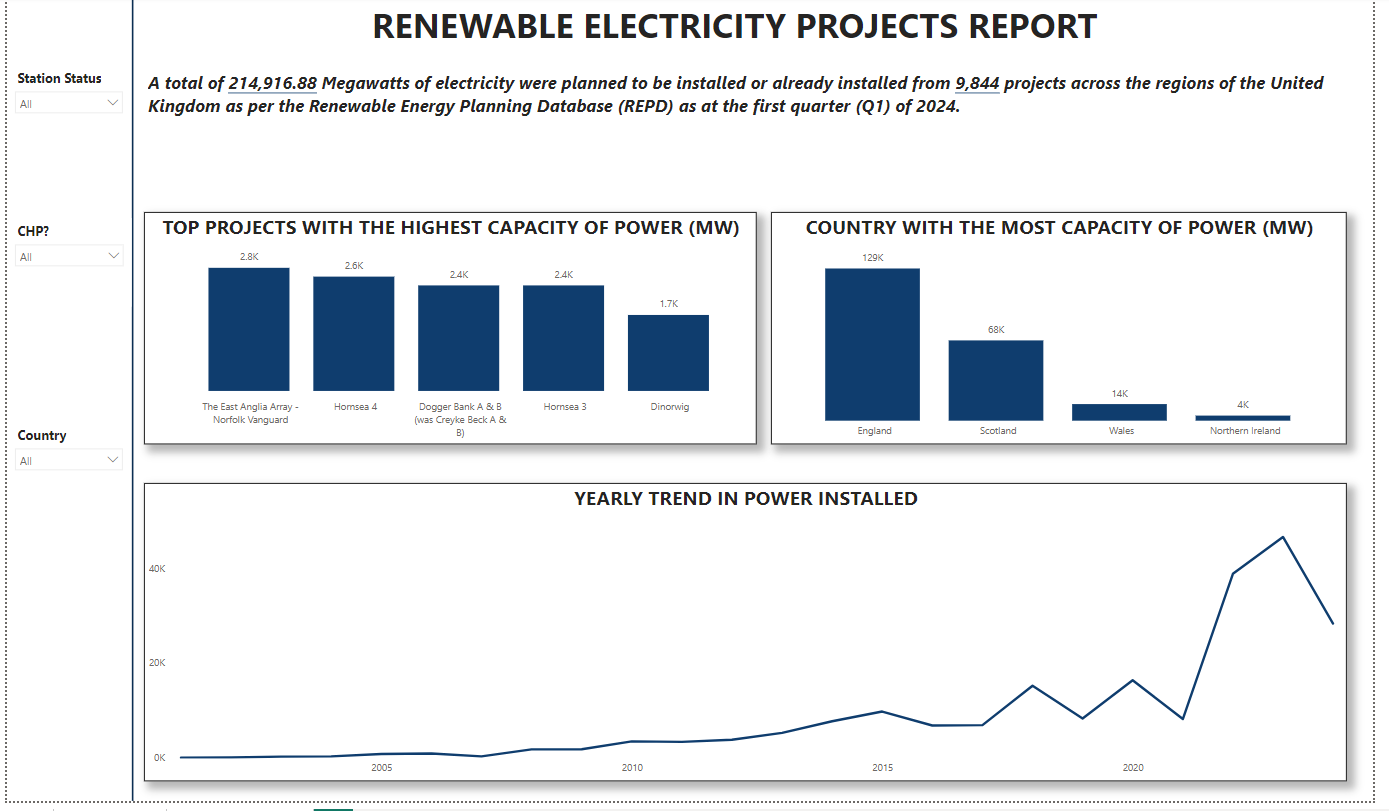

Layout of this report page (visuals, bound fields, positions):
{"tool":"powerbi","page":{"name":"Power Installed","canvas":[1700,1000],"ordinal":0},"visuals":[{"type":"shape","box":[151.1,0,9,999.8],"z":0},{"type":"slicer","fields":{"Values":["RENEWABLE.CHP?"]},"box":[0,274.7,155.3,110.1],"z":1000},{"type":"textbox","box":[160.2,0,1489.4,68.5],"z":2000},{"type":"slicer","fields":{"Values":["RENEWABLE.Station Status"]},"box":[0,84.9,153.9,98.2],"z":3000},{"type":"textbox","box":[170.5,85.3,1495.9,87.8],"z":4000},{"type":"slicer","fields":{"Values":["RENEWABLE.Country"]},"box":[0,528.2,153.9,110.1],"z":5000},{"type":"columnChart","title":"TOP PROJECTS WITH THE HIGHEST CAPACITY OF POWER (MW)","fields":{"Category":["RENEWABLE.Site"],"Y":["Sum(RENEWABLE.Capacity Installed(MW))"]},"box":[170.4,267.4,762.4,288.6],"z":6000},{"type":"columnChart","title":"COUNTRY WITH THE MOST CAPACITY OF POWER (MW)","fields":{"Category":["RENEWABLE.Country"],"Y":["Sum(RENEWABLE.Capacity Installed(MW))"]},"box":[950.2,267.4,716.4,288.6],"z":7000},{"type":"lineChart","title":"YEARLY TREND IN POWER INSTALLED","fields":{"Y":["Sum(RENEWABLE.Capacity Installed(MW))"],"Category":["RENEWABLE.Updated.Variation.Date Hierarchy.Year"]},"box":[170.5,604.6,1495.9,370.7],"z":8000}]}

Visuals, with their boxes on the page's 1700x1000 design canvas (x1, y1, x2, y2). These are canvas units, not pixel positions in the 1389x811 screenshot, which may show the page scaled, cropped or inside an application window:
shape: 151, 0, 160, 1000
slicer - RENEWABLE.CHP?: 0, 275, 155, 385
textbox: 160, 0, 1650, 68
slicer - RENEWABLE.Station Status: 0, 85, 154, 183
textbox: 170, 85, 1666, 173
slicer - RENEWABLE.Country: 0, 528, 154, 638
"TOP PROJECTS WITH THE HIGHEST CAPACITY OF POWER (MW)" columnChart: 170, 267, 933, 556
"COUNTRY WITH THE MOST CAPACITY OF POWER (MW)" columnChart: 950, 267, 1667, 556
"YEARLY TREND IN POWER INSTALLED" lineChart: 170, 605, 1666, 975
